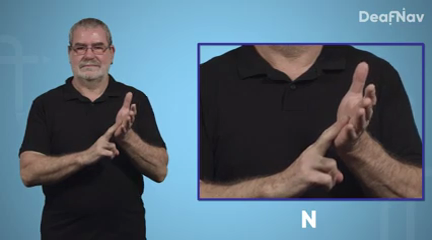N: (279, 59, 383, 198), (79, 91, 142, 165)
